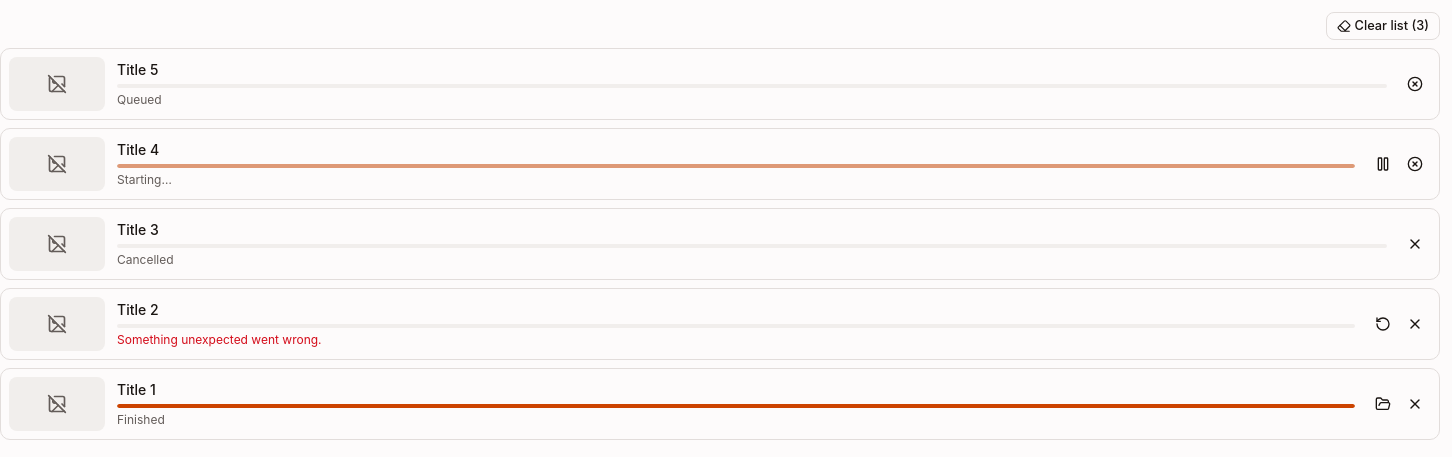
it: Clear list (what the user asked for after many playlists) › asks the backend once and the list drops what ended, keeping the rest
Click the button "Clear list (3)". click: (1383, 26)
box: [1326,12,1440,40]
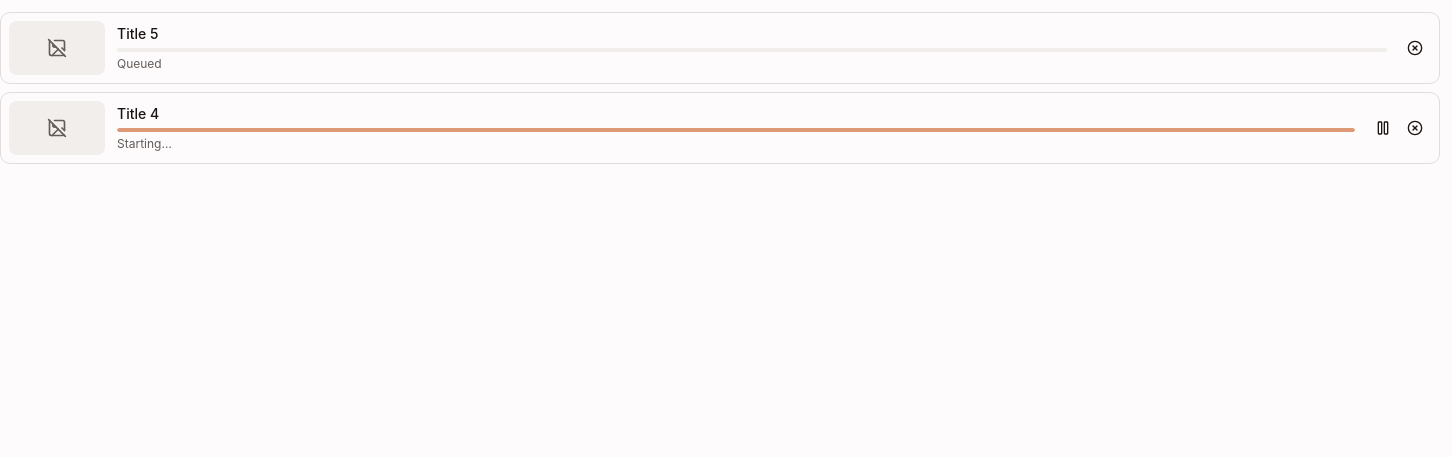
Result: the button "Clear list" is gone
Result: the list named "2 downloads" is shown at [0,12,1440,164]
